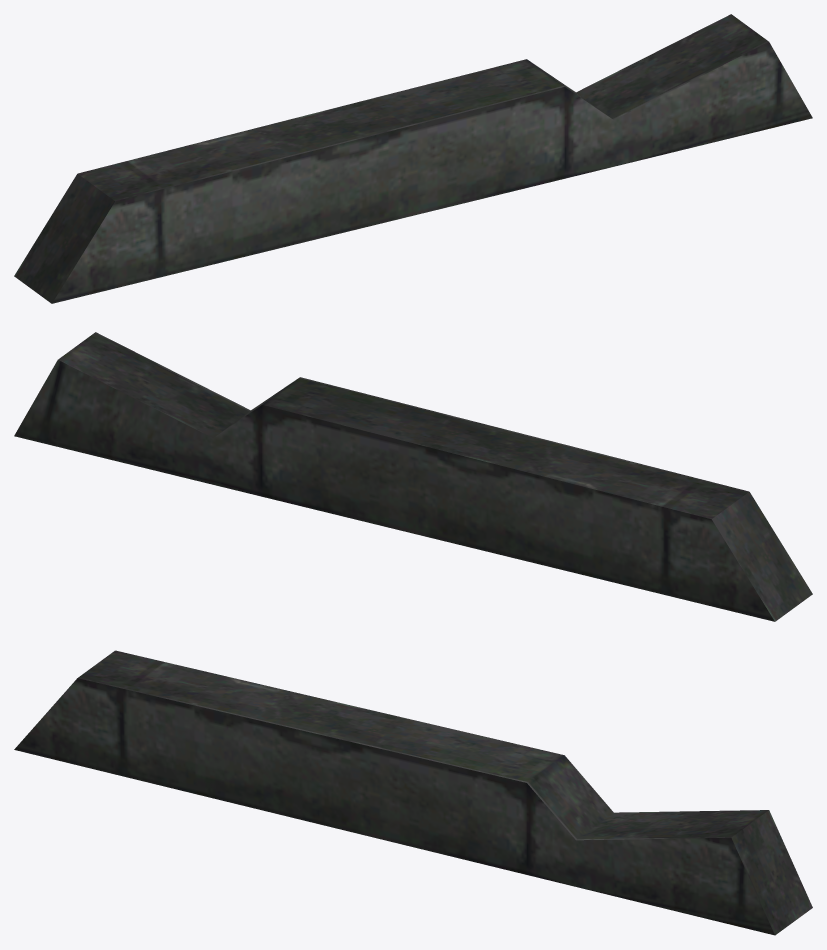
File: environment_Building_qiaoliang_005_d.FBX
The picture shows the model from 3 angles, top to bottom: view 1: azimuth 30°, elevation 25°; view 2: azimuth 150°, elevation 25°; view 3: azimuth 330°, elevation 25°; orthographic projection.
Parts seen in each view (by area): view 1: environment_Building_qiaoliang_005_d; view 2: environment_Building_qiaoliang_005_d; view 3: environment_Building_qiaoliang_005_d.
Boxes of the visible parts, x1,y1,x2,y2 form: environment_Building_qiaoliang_005_d: (14,14,812,303); environment_Building_qiaoliang_005_d: (14,332,812,621); environment_Building_qiaoliang_005_d: (14,650,812,935).
Bounding box in the file's own units: 174 × 20.07 × 14.97.
